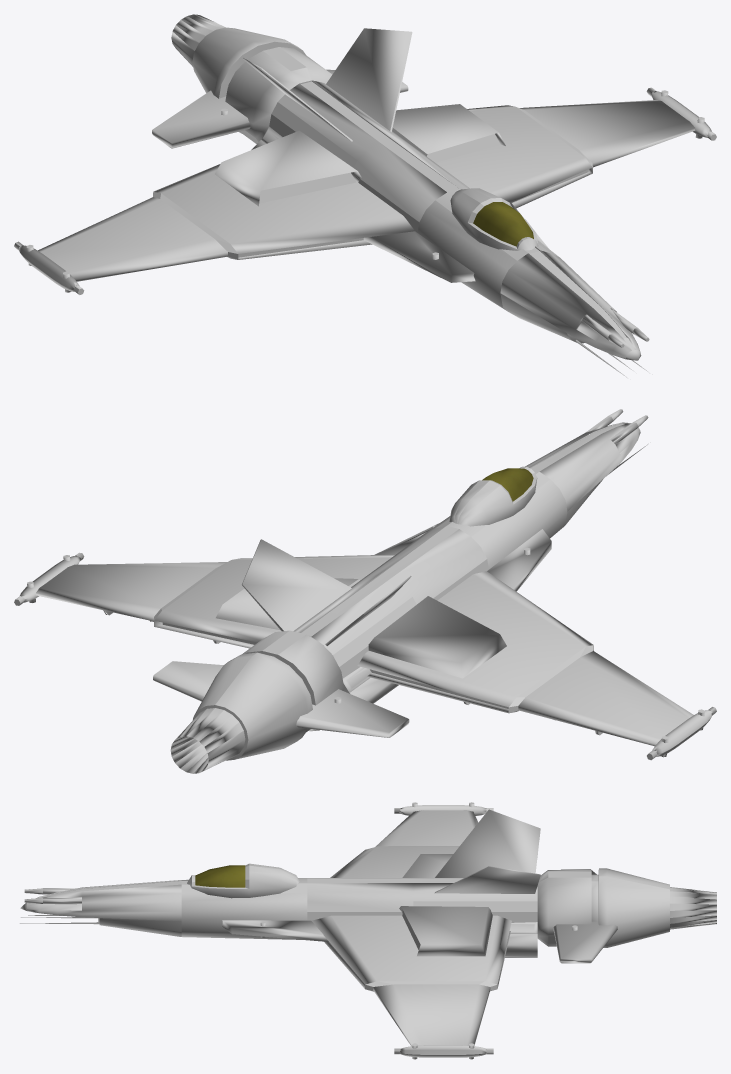
File: Cobra.fbx
3 views of the same model, one above another, from view 1: azimuth 30°, elevation 25°; view 2: azimuth 150°, elevation 25°; view 3: azimuth 270°, elevation 25° (orthographic). The views are drawn at different scales.
Parts seen in each view (by area): view 1: Cobra; view 2: Cobra; view 3: Cobra.
Part boxes in pixels (<box>): Cobra: <box>14,14,716,377</box>; Cobra: <box>14,409,716,773</box>; Cobra: <box>20,802,716,1059</box>.
Bounding box in the file's own units: 341 × 75.51 × 413.
